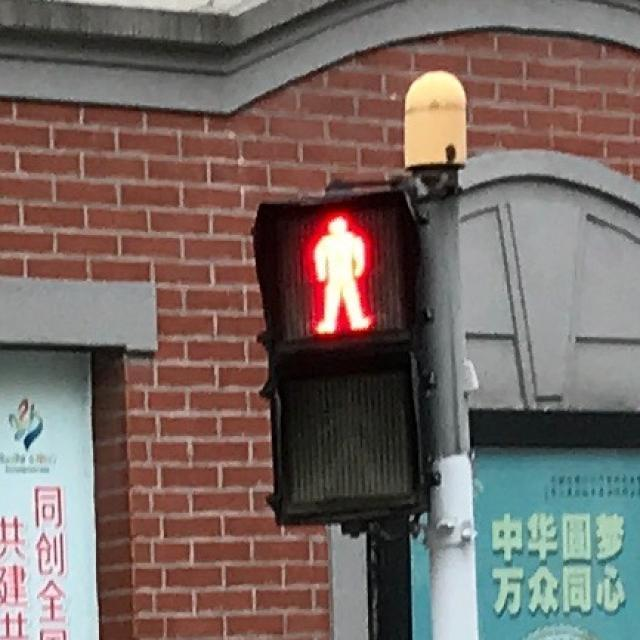red-crossing: (278, 192, 398, 343)
